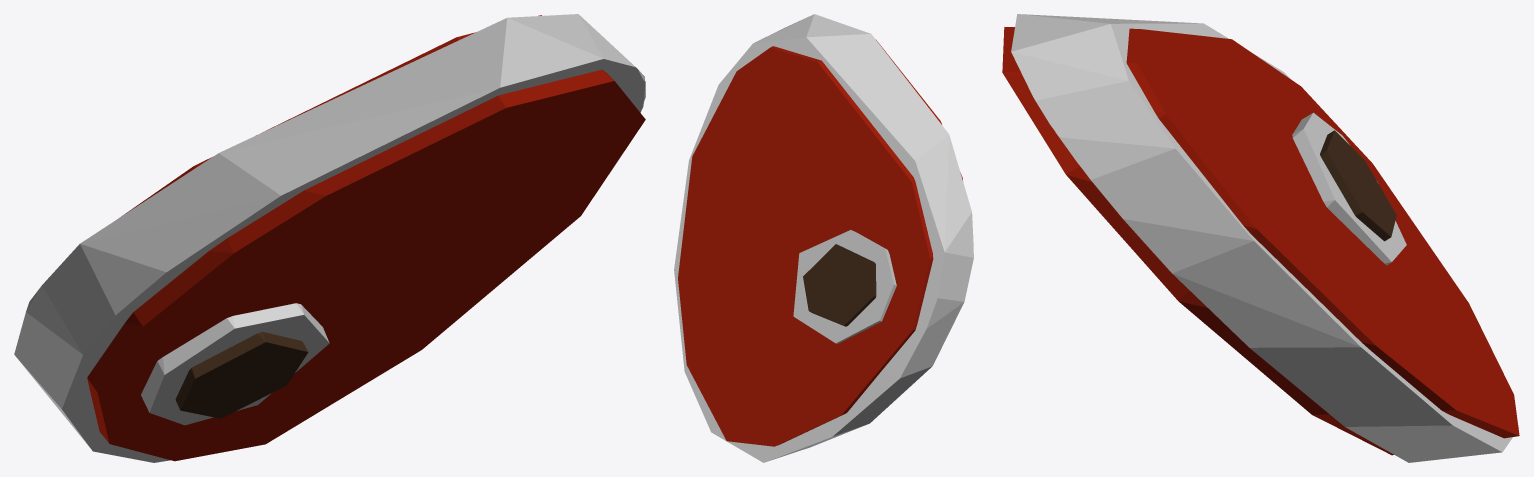
Rendered from food_1_meat.fbx.
3 renders of one model, left to right at view 1: azimuth 30°, elevation 25°; view 2: azimuth 150°, elevation 25°; view 3: azimuth 270°, elevation 25°, orthographic. The views are drawn at different scales.
Visible parts, largest first — view 1: food_meat; view 2: food_meat; view 3: food_meat.
Part boxes in pixels (x1,y1,x2,y2): food_meat: (14, 14, 645, 462); food_meat: (674, 14, 973, 462); food_meat: (1002, 14, 1519, 462).
Bounding box in the file's own units: 44.25 × 47.52 × 46.
